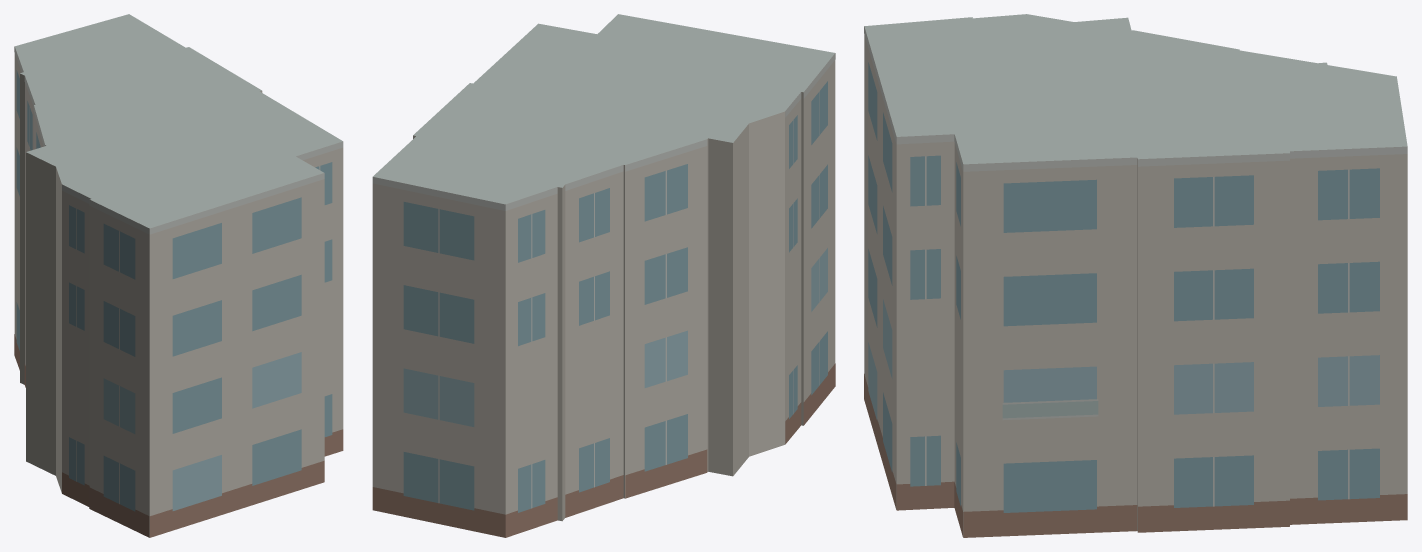
File: survey-upis-32670918.glb
3 renders of one model, left to right at view 1: azimuth 30°, elevation 25°; view 2: azimuth 150°, elevation 25°; view 3: azimuth 270°, elevation 25°, orthographic. The views are drawn at different scales.
Visible parts, largest first — view 1: survey-upis-32670918.tmp; view 2: survey-upis-32670918.tmp; view 3: survey-upis-32670918.tmp.
Part boxes in pixels (bbox=[...]): survey-upis-32670918.tmp: bbox=[14, 14, 343, 537]; survey-upis-32670918.tmp: bbox=[372, 14, 835, 537]; survey-upis-32670918.tmp: bbox=[864, 14, 1407, 537].
Bounding box in the file's own units: 10.63 × 12.3 × 16.23.
